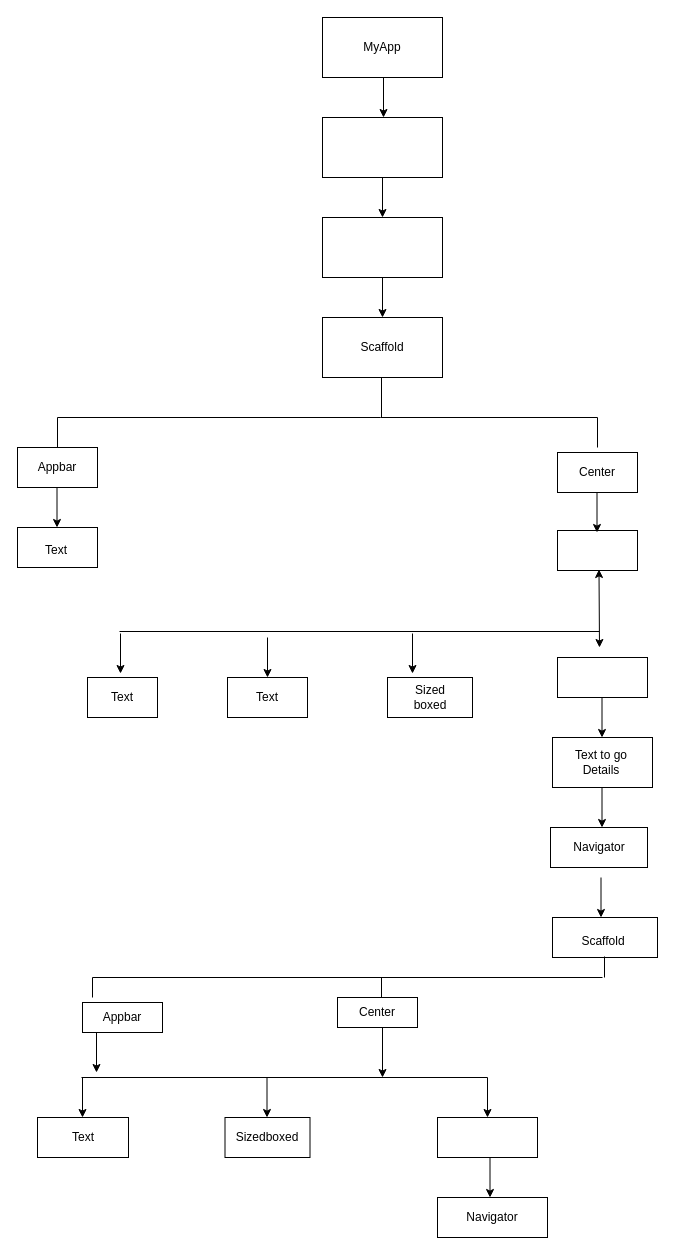
Some shapes in this 675 by 1255 pixel diagram are drawn without their labels. The box of each missing label's shape, as (x1, y1, x2, y2) in pixels:
Column: (556, 530, 638, 570)
Elevated: (436, 1116, 538, 1158)
Elevated Button: (556, 656, 648, 698)
Homepage: (322, 216, 442, 278)
Material App: (322, 116, 442, 178)
